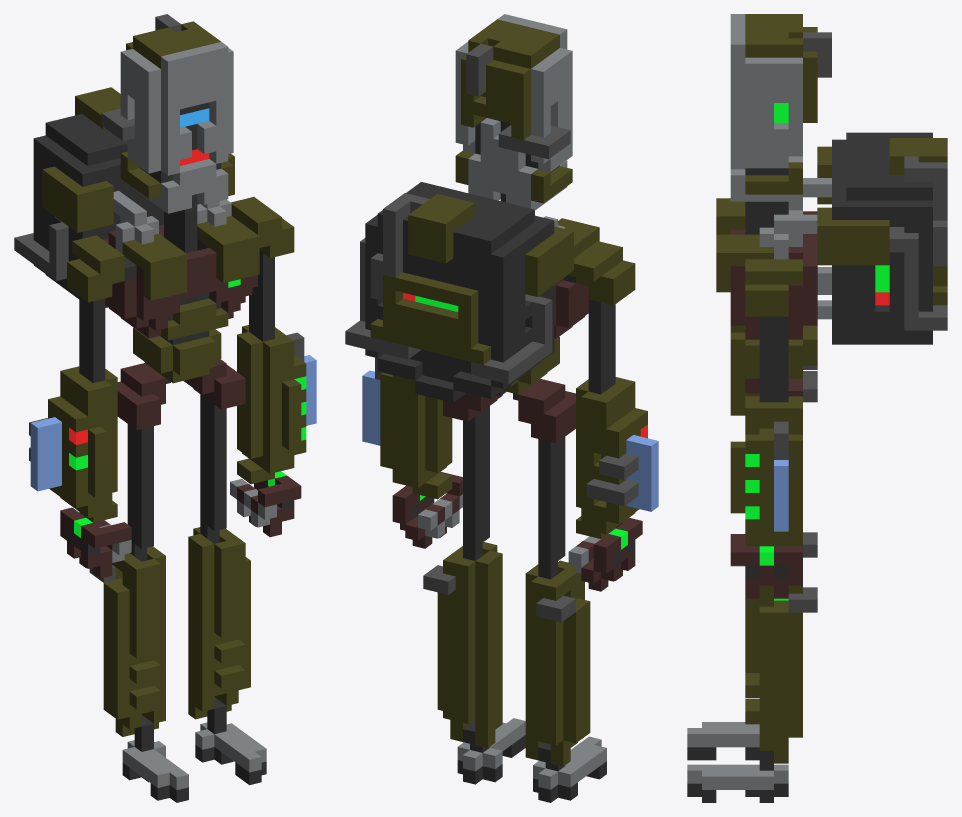
The model's file is mech_companion_bot.glb.
3 renders of one model, left to right at view 1: azimuth 30°, elevation 25°; view 2: azimuth 150°, elevation 25°; view 3: azimuth 270°, elevation 25°, orthographic. The views are drawn at different scales.
Visible parts, largest first — view 1: body; view 2: body; view 3: body.
Part boxes in pixels (x1,y1,x2,y2): body: (14,14,316,802); body: (345,14,658,802); body: (687,14,947,802).
Bounding box in the file's own units: 6.44 × 15.96 × 5.04.
Materials: 2 (2 with a texture image).
